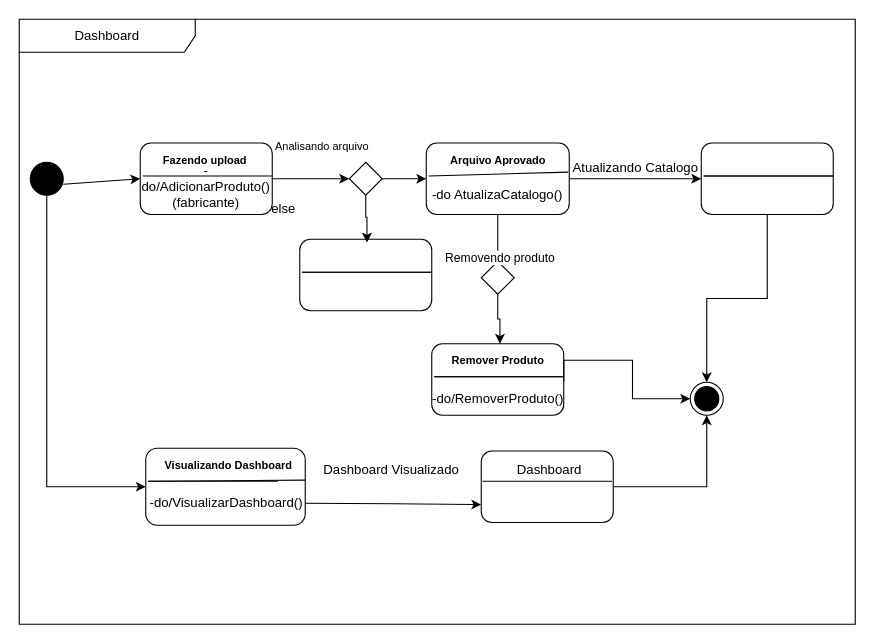
The diagram is 875 pixels wide and 644 high, and some of its shapes have lost their labels. The centre of each missing label's shape, as x and y in pixels:
"Arquivo Recusado" belongs at (365,274).
"Catálogo Atualizado" belongs at (766,178).
